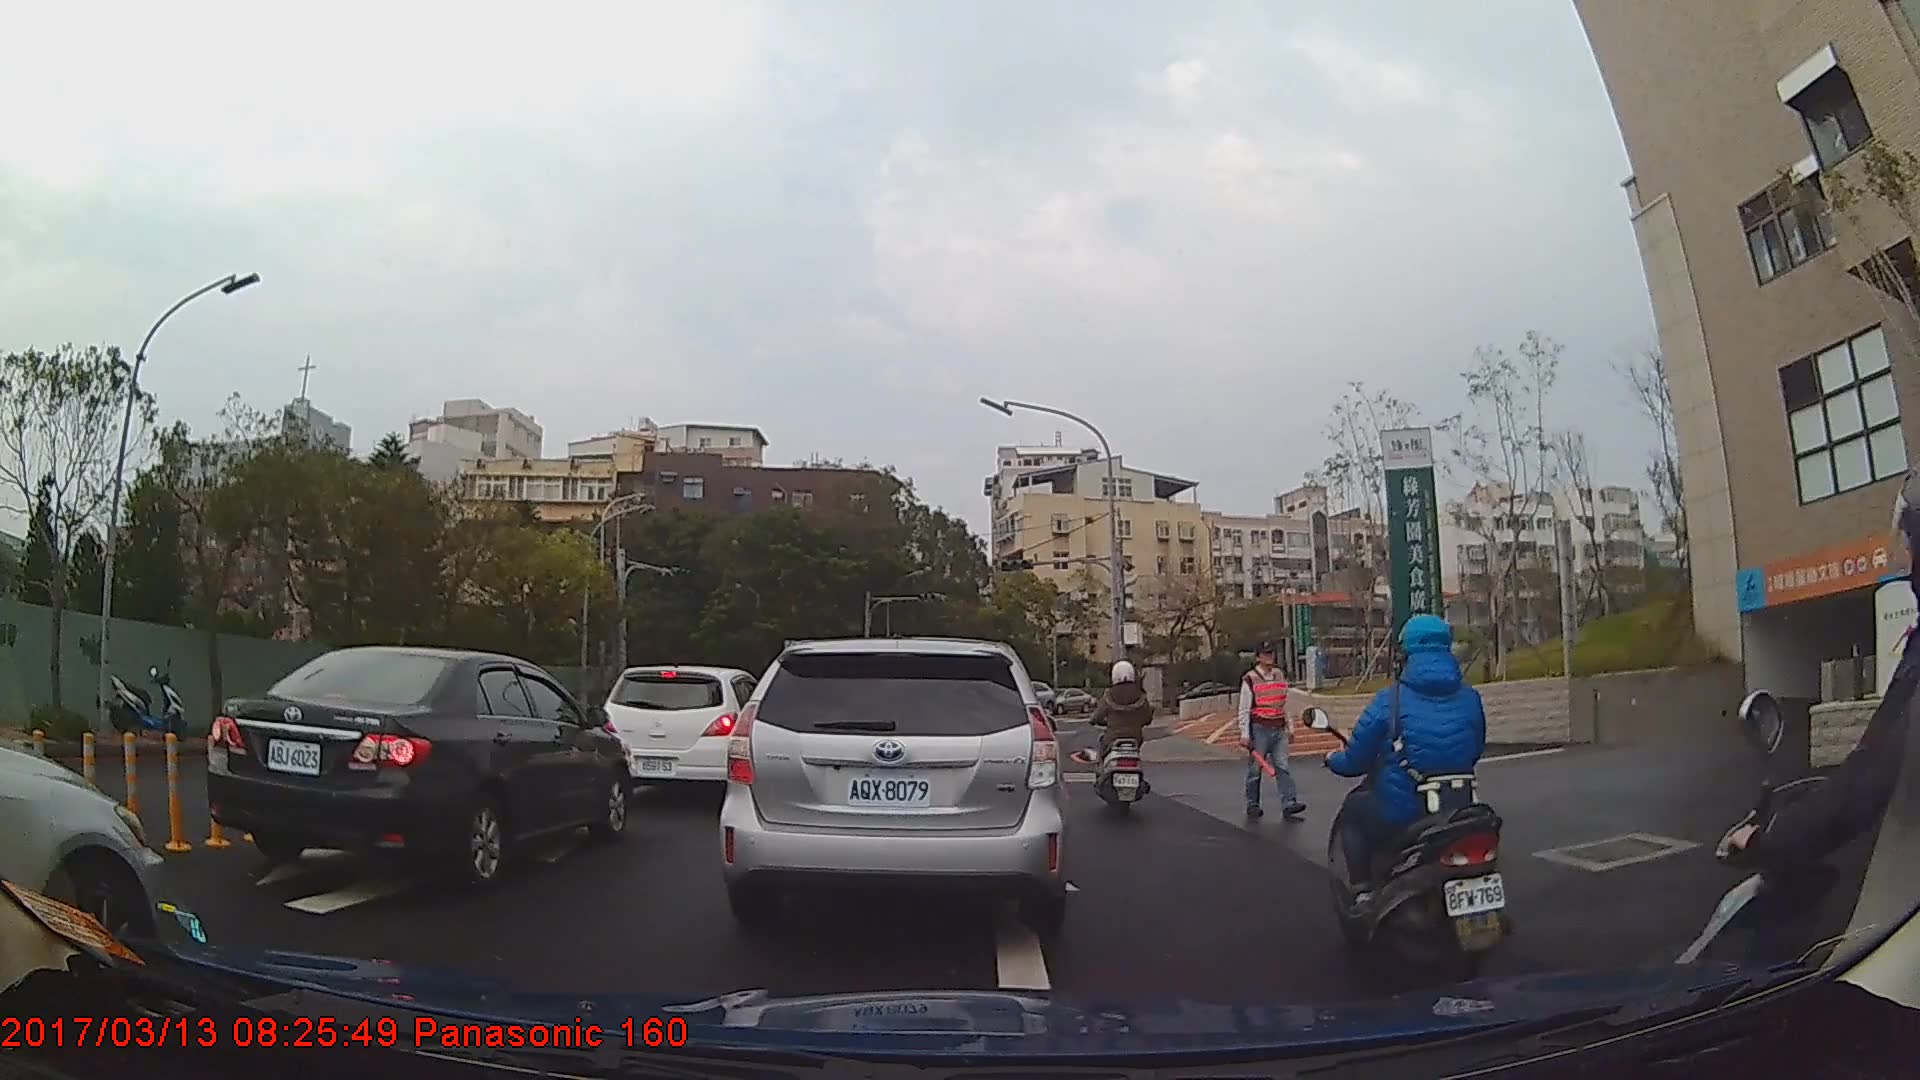pedestrian: (1236, 640, 1299, 819)
rider: (1675, 454, 1920, 1080), (1321, 610, 1518, 979), (1094, 664, 1160, 823)
vehicle: (205, 645, 633, 890), (720, 635, 1069, 934), (594, 664, 771, 806), (1055, 688, 1095, 717)
